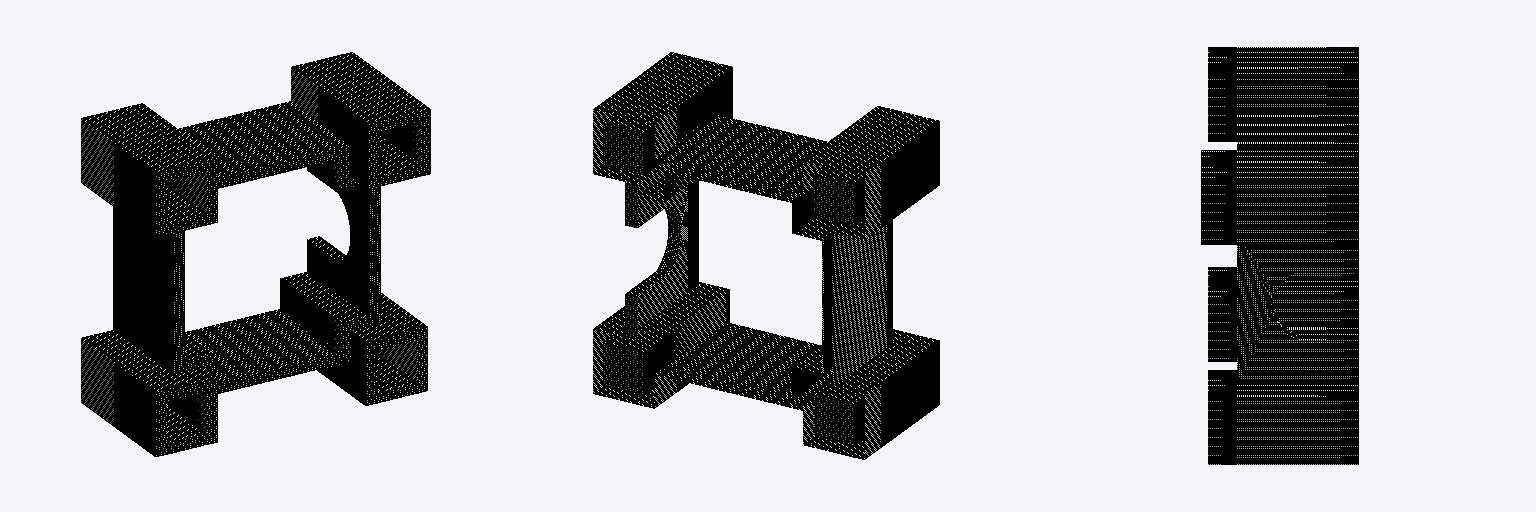
The picture shows the model from 3 angles: view 1: azimuth 30°, elevation 25°; view 2: azimuth 150°, elevation 25°; view 3: azimuth 270°, elevation 25°; orthographic projection.
Visible parts, largest first — view 1: Model; view 2: Model; view 3: Model.
Boxes of the visible parts, box(x1,y1,x2,y2) form: Model: box(81, 52, 430, 456); Model: box(593, 52, 939, 459); Model: box(1201, 47, 1358, 464).
Size of the model in its own units: 105 by 105 by 52.8.
1 materials, 1 textured.